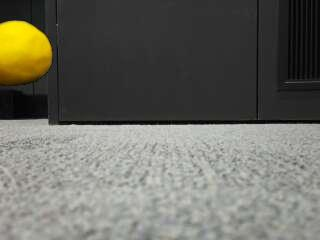lemon: (0, 21, 52, 86)
